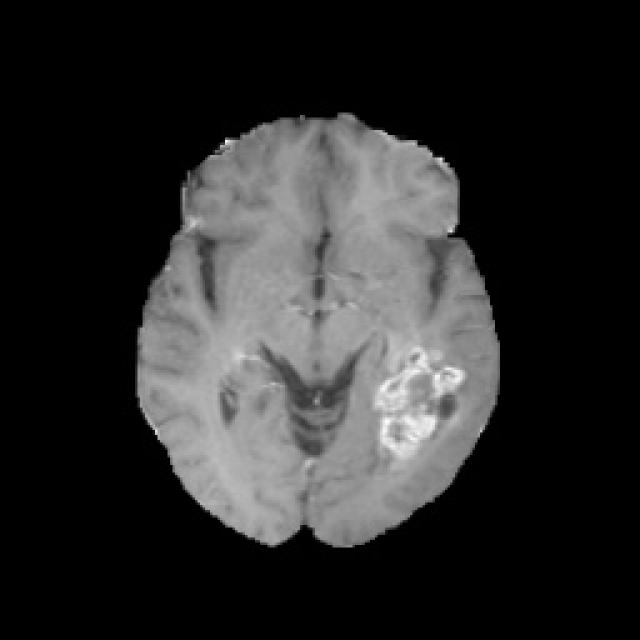negative: (376, 349, 462, 459)
